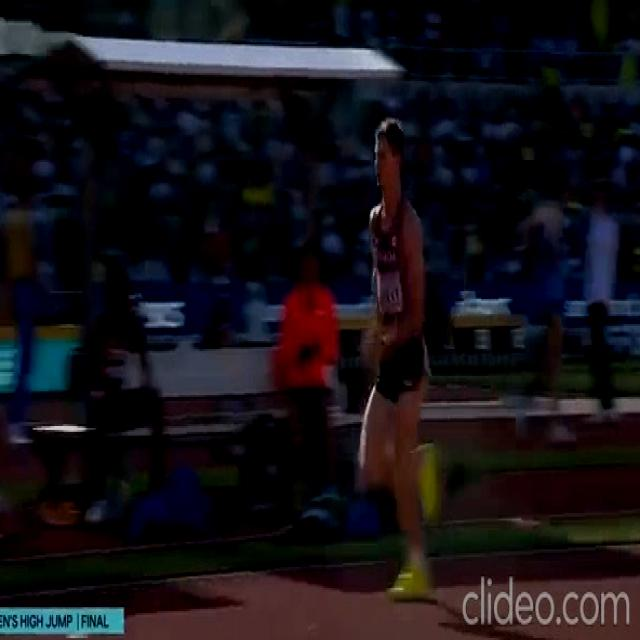run: (358, 119, 437, 598)
